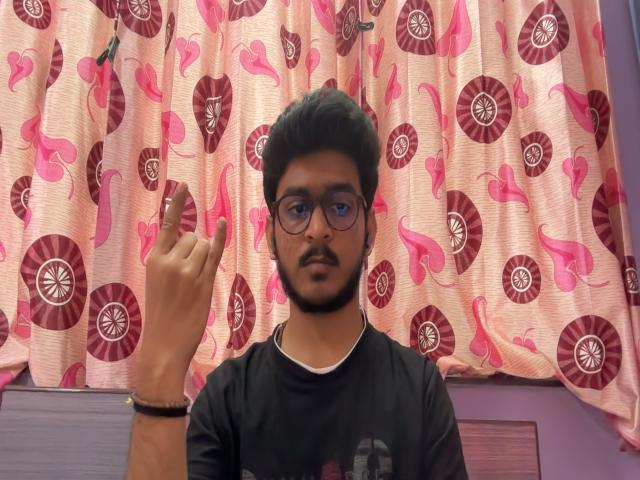I Love You: (136, 176, 235, 375)
